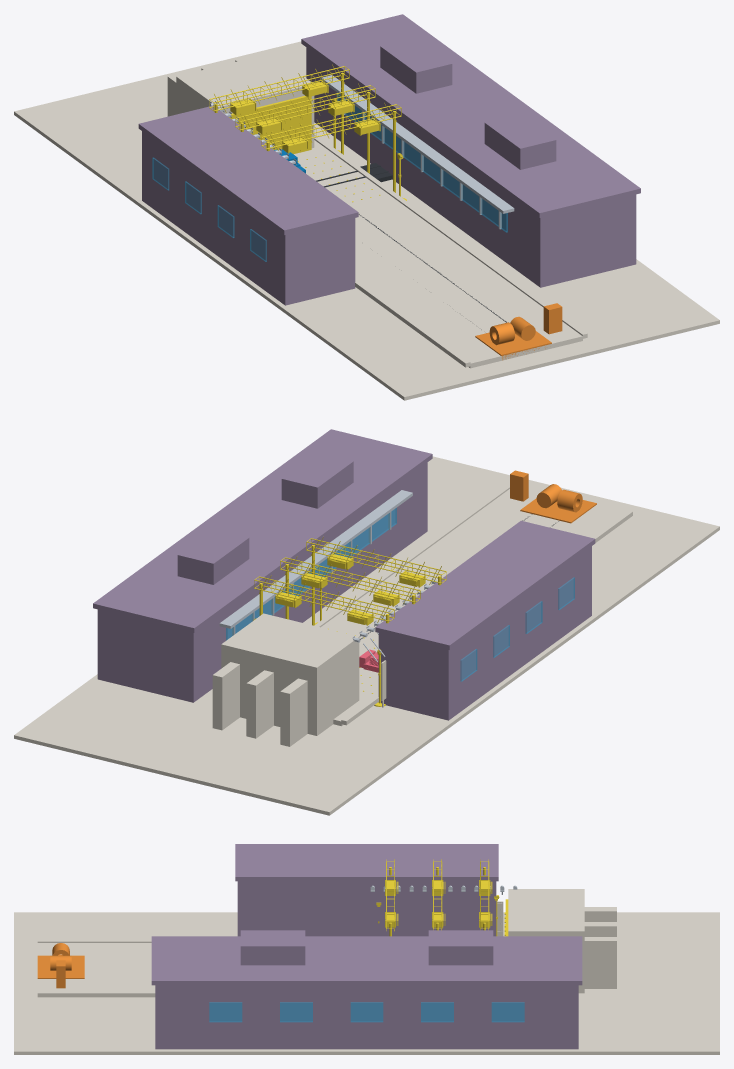
The model's file is hq_13_safety_l3.glb.
3 renders of one model, top to bottom at view 1: azimuth 30°, elevation 25°; view 2: azimuth 150°, elevation 25°; view 3: azimuth 270°, elevation 25°, orthographic. The views are drawn at different scales.
Parts seen in each view (by area): view 1: GEO_Safety_Telemetry_Office_Halls, GEO_Safety_Foundation_Plinth, GEO_Safety_Dummy_Lab_Shell, GEO_Safety_Crash_Runway_Hall, GEO_Safety_Photogrammetry_Lighting_Truss, GEO_Safety_Rigid_Impact_Barrier, GEO_Safety_Observation_Mullions, GEO_Safety_Runway_Tow_Winch, GEO_Safety_Observation_Glass, GEO_Safety_Barrier_Hazard_Face, GEO_Safety_Dummy_Lab_Windows; view 2: GEO_Safety_Foundation_Plinth, GEO_Safety_Telemetry_Office_Halls, GEO_Safety_Dummy_Lab_Shell, GEO_Safety_Rigid_Impact_Barrier, GEO_Safety_Crash_Runway_Hall, GEO_Safety_Photogrammetry_Lighting_Truss, GEO_Safety_Observation_Mullions, GEO_Safety_Runway_Tow_Winch, GEO_Safety_Observation_Glass, GEO_Safety_Dummy_Lab_Windows; view 3: GEO_Safety_Telemetry_Office_Halls, GEO_Safety_Foundation_Plinth, GEO_Safety_Dummy_Lab_Shell, GEO_Safety_Rigid_Impact_Barrier, GEO_Safety_Crash_Runway_Hall, GEO_Safety_Observation_Glass, GEO_Safety_Photogrammetry_Lighting_Truss, GEO_Safety_Runway_Tow_Winch.
Boxes of the visible parts, <box> form: GEO_Safety_Telemetry_Office_Halls: <box>301,14,640,287</box>; GEO_Safety_Foundation_Plinth: <box>14,41,719,400</box>; GEO_Safety_Dummy_Lab_Shell: <box>138,105,358,305</box>; GEO_Safety_Crash_Runway_Hall: <box>294,133,587,368</box>; GEO_Safety_Photogrammetry_Lighting_Truss: <box>209,64,401,192</box>; GEO_Safety_Rigid_Impact_Barrier: <box>167,53,314,148</box>; GEO_Safety_Observation_Mullions: <box>321,75,514,229</box>; GEO_Safety_Runway_Tow_Winch: <box>475,303,562,360</box>; GEO_Safety_Observation_Glass: <box>337,94,507,232</box>; GEO_Safety_Barrier_Hazard_Face: <box>229,96,311,154</box>; GEO_Safety_Dummy_Lab_Windows: <box>152,157,266,261</box>; GEO_Safety_Foundation_Plinth: <box>14,456,719,815</box>; GEO_Safety_Telemetry_Office_Halls: <box>93,429,432,702</box>; GEO_Safety_Dummy_Lab_Shell: <box>375,520,595,720</box>; GEO_Safety_Rigid_Impact_Barrier: <box>212,613,359,746</box>; GEO_Safety_Crash_Runway_Hall: <box>314,482,632,726</box>; GEO_Safety_Photogrammetry_Lighting_Truss: <box>254,537,446,625</box>; GEO_Safety_Observation_Mullions: <box>219,490,412,635</box>; GEO_Safety_Runway_Tow_Winch: <box>510,470,596,523</box>; GEO_Safety_Observation_Glass: <box>226,508,396,640</box>; GEO_Safety_Dummy_Lab_Windows: <box>460,577,574,681</box>; GEO_Safety_Telemetry_Office_Halls: <box>151,930,582,1049</box>; GEO_Safety_Foundation_Plinth: <box>14,912,719,1054</box>; GEO_Safety_Dummy_Lab_Shell: <box>235,844,498,936</box>; GEO_Safety_Rigid_Impact_Barrier: <box>508,889,616,993</box>; GEO_Safety_Crash_Runway_Hall: <box>37,939,155,997</box>; GEO_Safety_Observation_Glass: <box>209,1002,524,1022</box>; GEO_Safety_Photogrammetry_Lighting_Truss: <box>385,859,492,936</box>; GEO_Safety_Runway_Tow_Winch: <box>37,943,84,988</box>.
Size of what is drawn, in the model's own units: 28 by 8.6 by 60.
